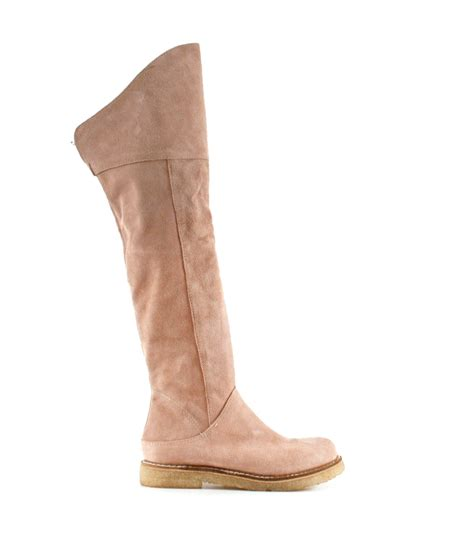gamuza: (74, 43, 339, 476)
